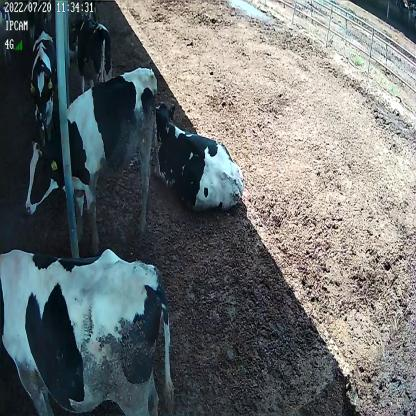cow: (0, 246, 174, 414), (25, 65, 157, 259), (153, 98, 245, 216), (29, 27, 56, 139), (75, 12, 112, 89)
